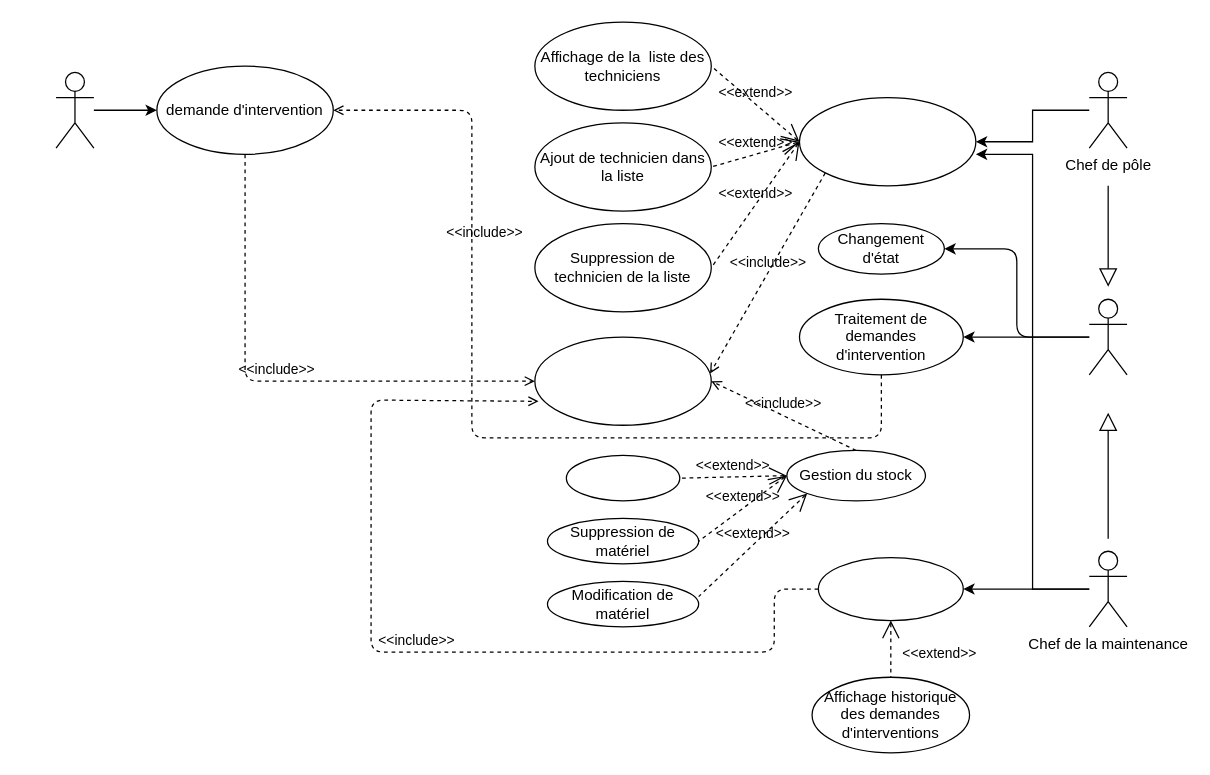
Image size: 1210x775. Some labels were removed from this diagram. The centre of each missing label's shape, as x and y in pixels:
"Agent de l'école" goes at (74,109).
"Ajout de matériel" goes at (622,477).
"Authentification" goes at (622,380).
"Gestion des demandes d'intervention" goes at (890,588).
"Gestion des techniciens" goes at (887,141).
"Technicien" goes at (1107,336).
